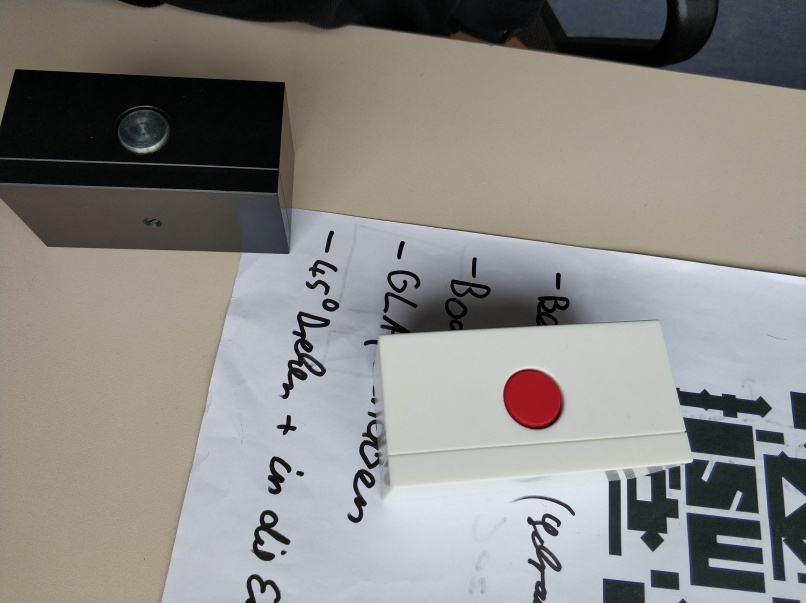black+black+silver: (1, 66, 297, 257)
white+white+red: (366, 317, 696, 506)
